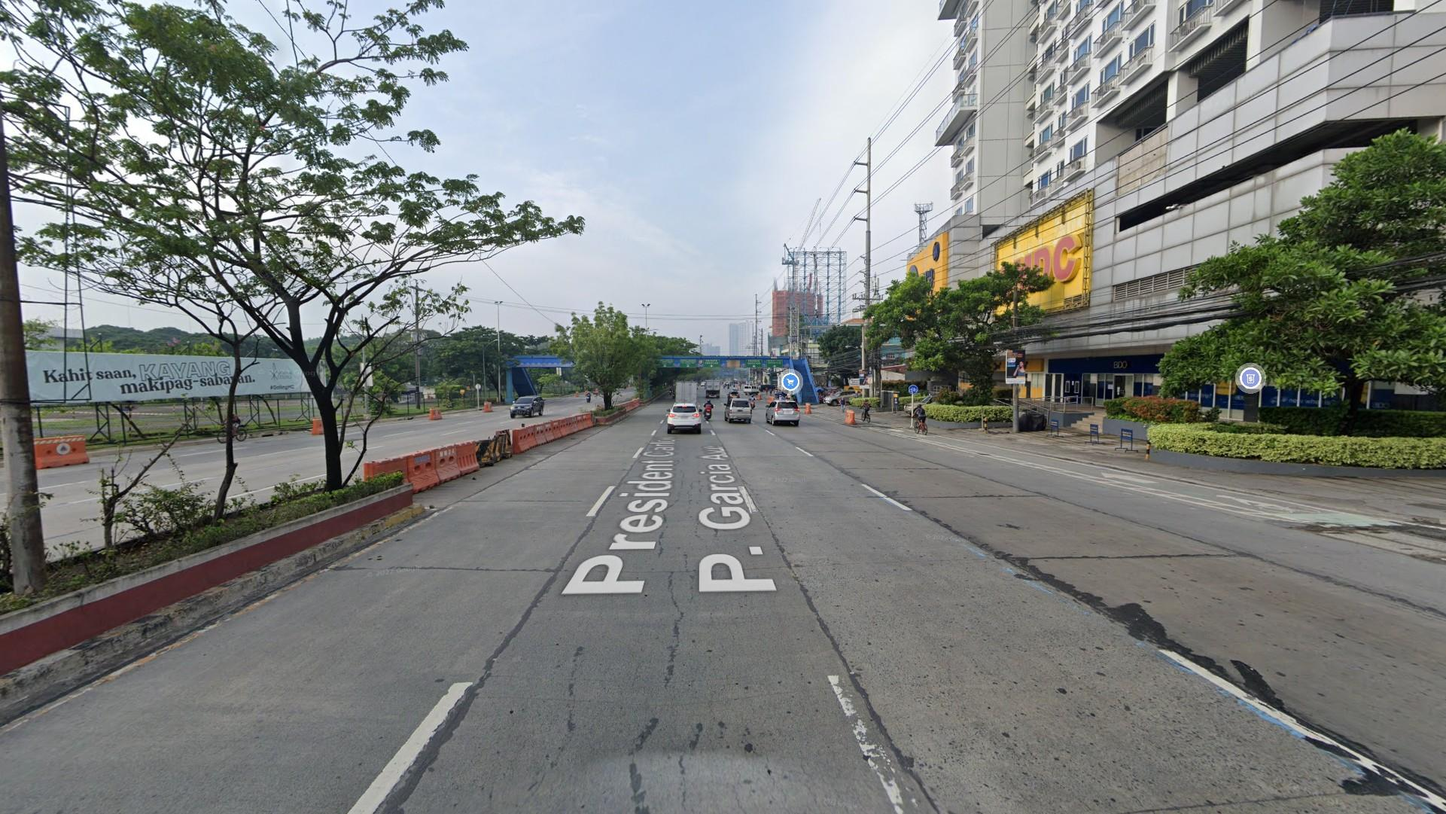cyclist: (912, 403, 928, 436), (859, 398, 871, 424)
pedestrian: (840, 395, 846, 413), (765, 385, 769, 396), (769, 386, 773, 396), (739, 382, 742, 390)
